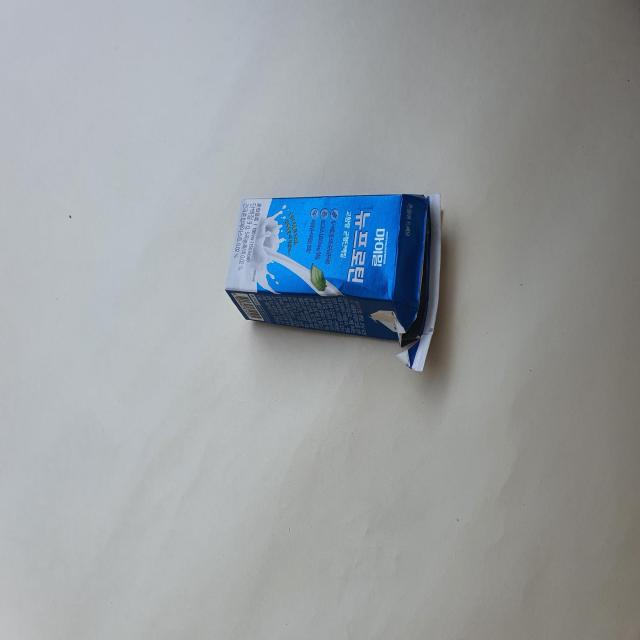paperpack: (225, 193, 441, 370)
